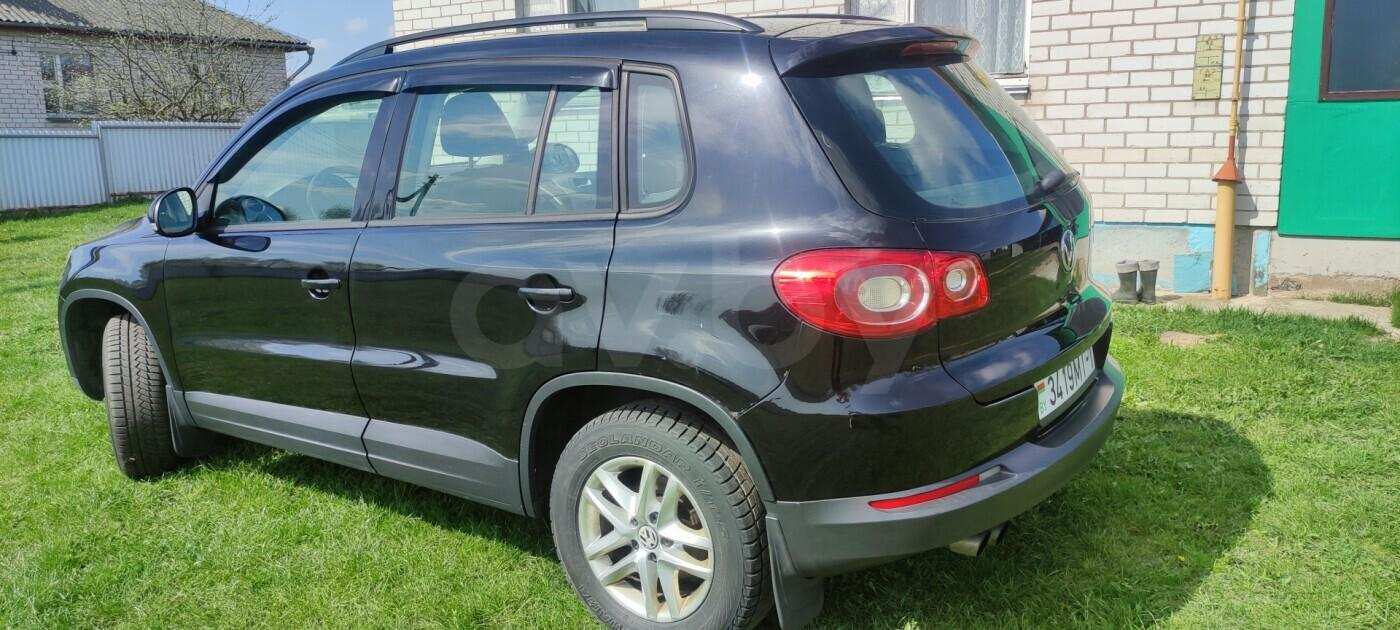Tiguan_2007-2011: (56, 14, 1128, 628)
